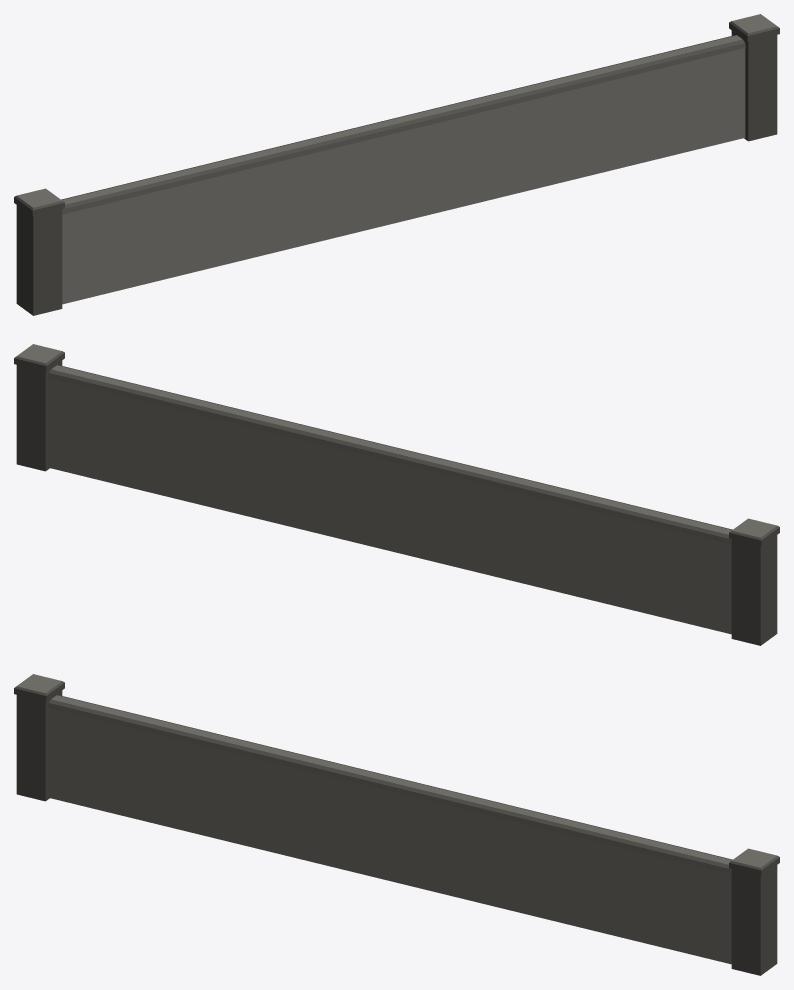
File: wall_2.FBX
3 renders of one model, top to bottom at view 1: azimuth 30°, elevation 25°; view 2: azimuth 150°, elevation 25°; view 3: azimuth 330°, elevation 25°, orthographic.
Parts seen in each view (by area): view 1: wall_2; view 2: wall_2; view 3: wall_2.
Part boxes in pixels (x1,y1,x2,y2): wall_2: [14, 14, 779, 315]; wall_2: [14, 344, 779, 645]; wall_2: [14, 674, 779, 975].
Size of the model in its own units: 8.45 by 1.17 by 0.3635.
1 material, 1 textured.
